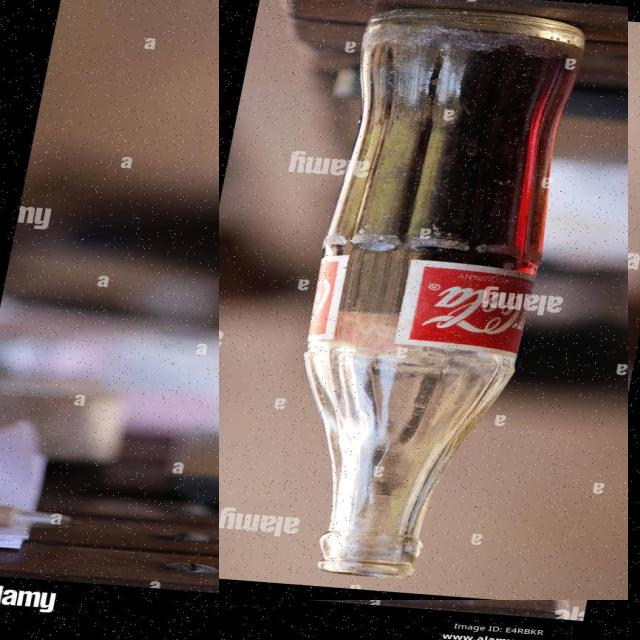coca-cola: (219, 0, 628, 600)
